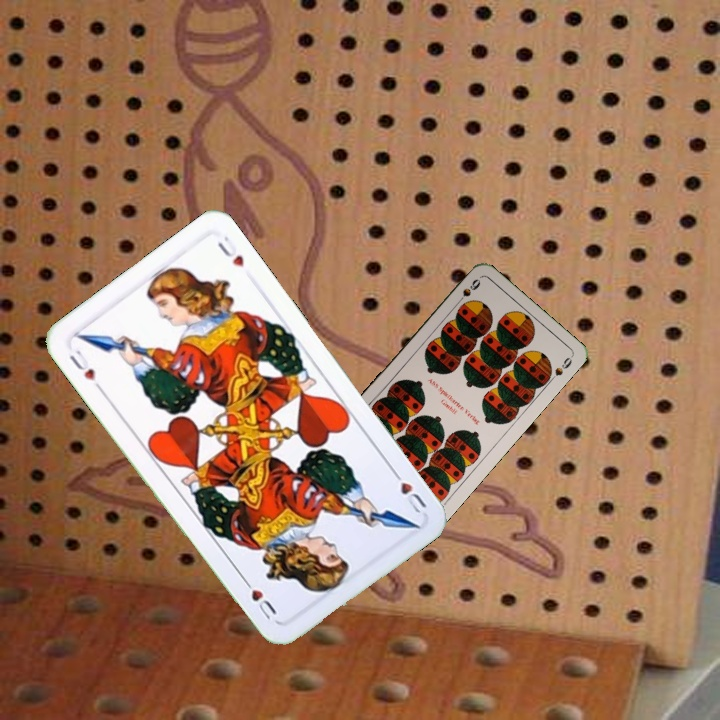HU: (387, 464, 430, 516), (65, 345, 105, 394)
S9: (451, 275, 483, 308)
